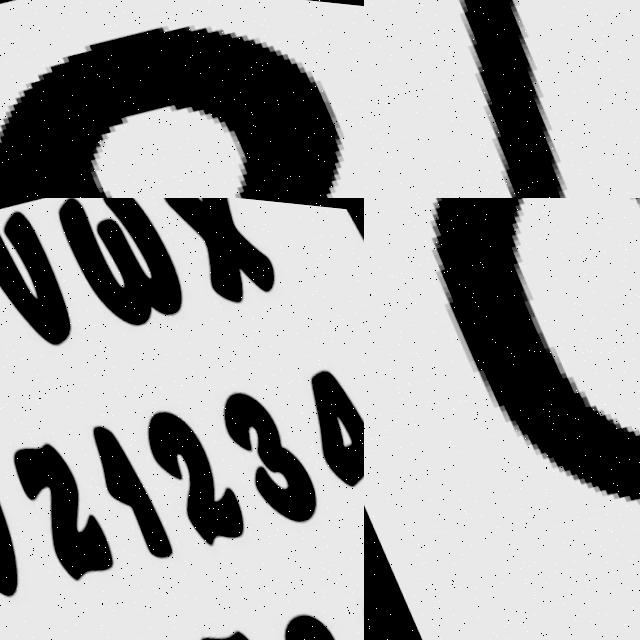1: (59, 395, 179, 572)
2: (119, 379, 258, 555)
3: (193, 355, 334, 538)
4: (256, 312, 364, 532)
7: (161, 587, 311, 640)
8: (0, 0, 364, 198), (240, 566, 364, 640)
L: (364, 0, 640, 198)
Q: (364, 198, 640, 640)
